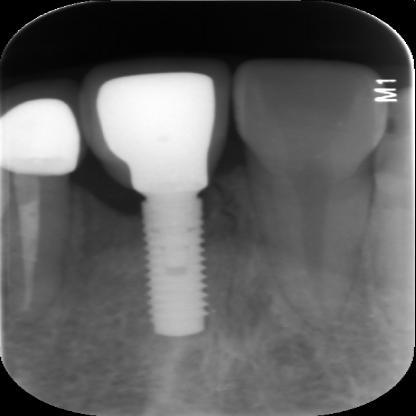ITI: (144, 194, 211, 339)
